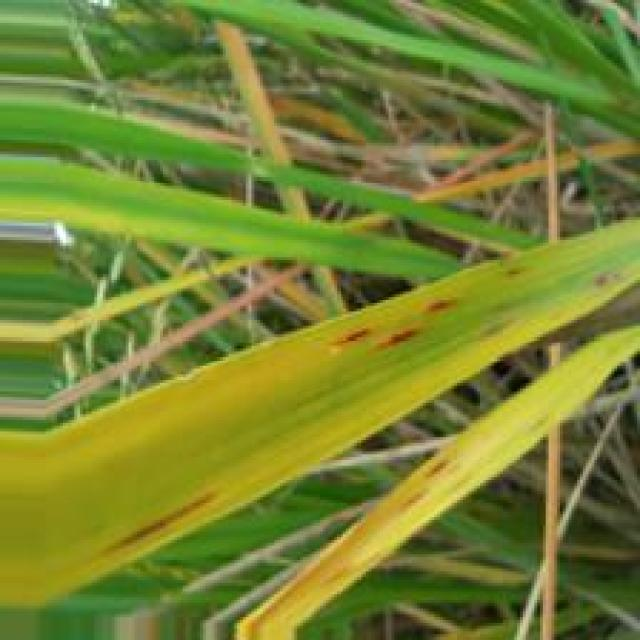Narrow_Brown_Leaf_Spot: (364, 325, 423, 351), (332, 326, 373, 348), (424, 301, 456, 311)
